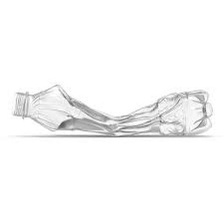bottle: (7, 79, 217, 139)
